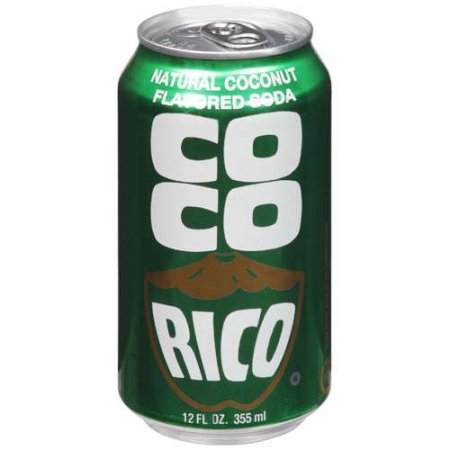can: (114, 4, 339, 450)
